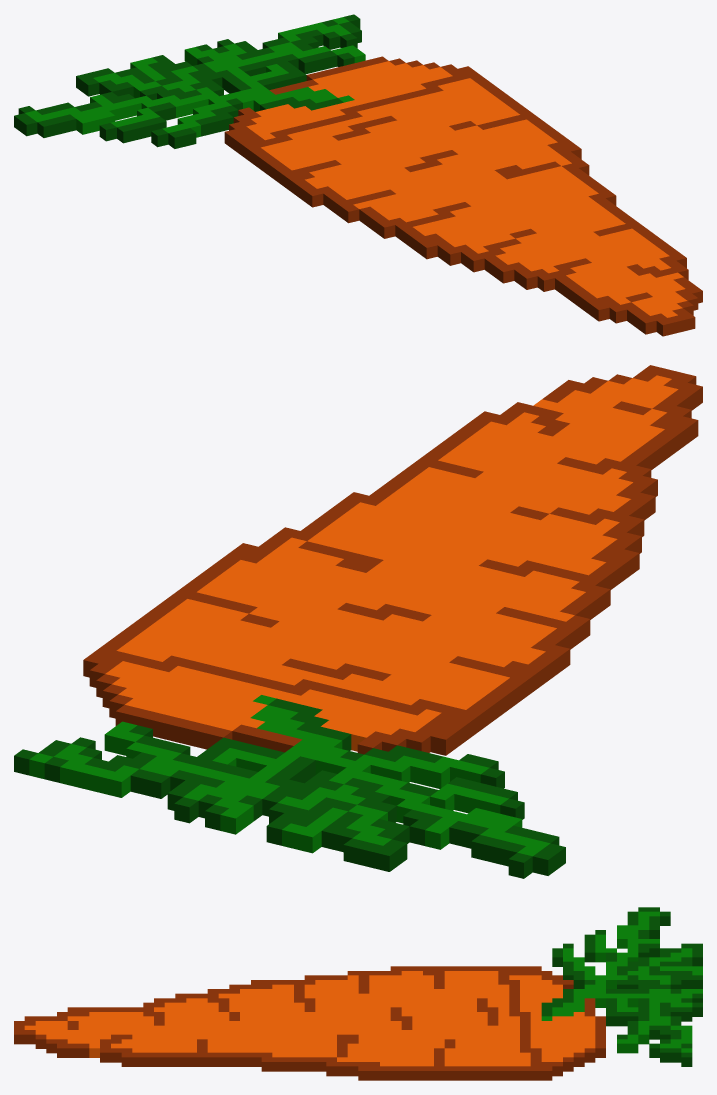
The model's file is carrot.obj.
3 views of the same model, one above another, from view 1: azimuth 30°, elevation 25°; view 2: azimuth 150°, elevation 25°; view 3: azimuth 270°, elevation 25° (orthographic). The views are drawn at different scales.
Visible parts, largest first — view 1: carrot; view 2: carrot; view 3: carrot.
Part boxes in pixels (bbox=[...]): carrot: bbox=[14, 14, 702, 336]; carrot: bbox=[14, 365, 702, 878]; carrot: bbox=[14, 907, 702, 1080].
Size of the model in its own units: 36 by 1 by 64.
Materials: 1 (1 with a texture image).
